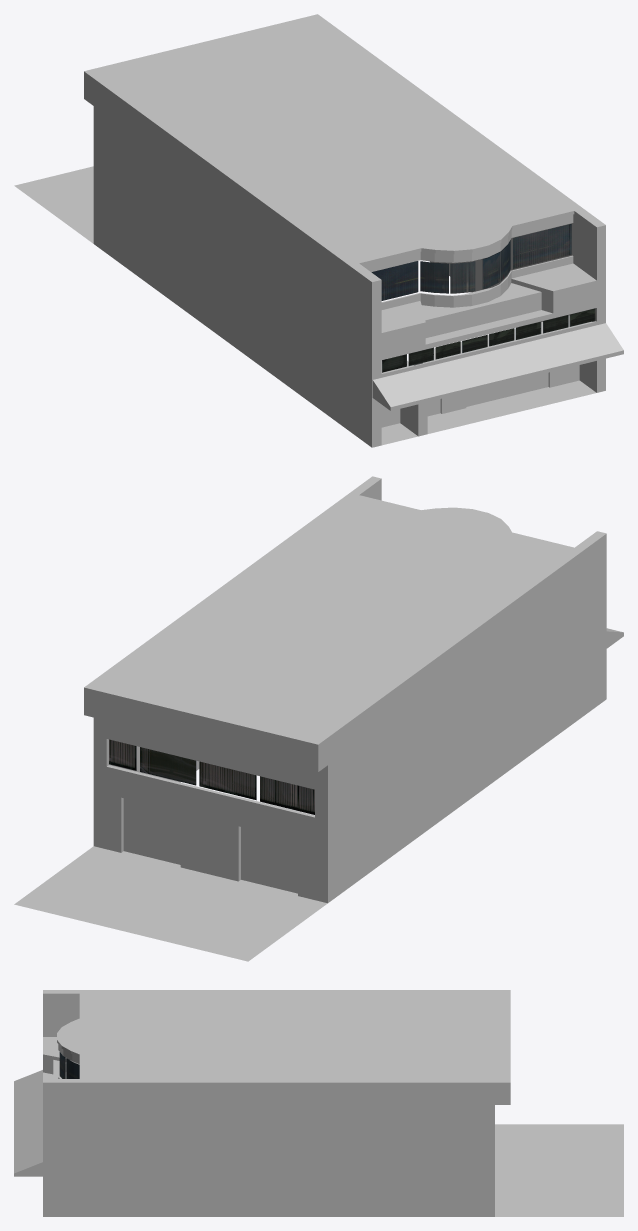
3 views of the same model, one above another, from view 1: azimuth 30°, elevation 25°; view 2: azimuth 150°, elevation 25°; view 3: azimuth 270°, elevation 25° (orthographic). The views are drawn at different scales.
Visible parts, largest first — view 1: BB-034; view 2: BB-034; view 3: BB-034.
Boxes of the visible parts, left/top/right/bottom form: BB-034: left=14, top=14, right=623, bottom=447; BB-034: left=14, top=476, right=623, bottom=961; BB-034: left=14, top=990, right=623, bottom=1216.
Size of what is drawn, in the model's own units: 13.58 by 9.18 by 37.8.
